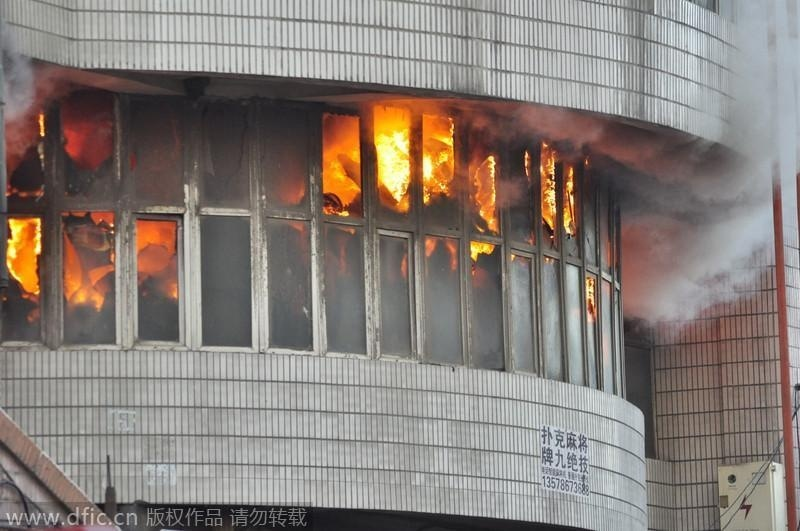fire: (320, 103, 490, 237), (534, 142, 578, 237), (4, 216, 42, 292), (37, 110, 46, 135)
